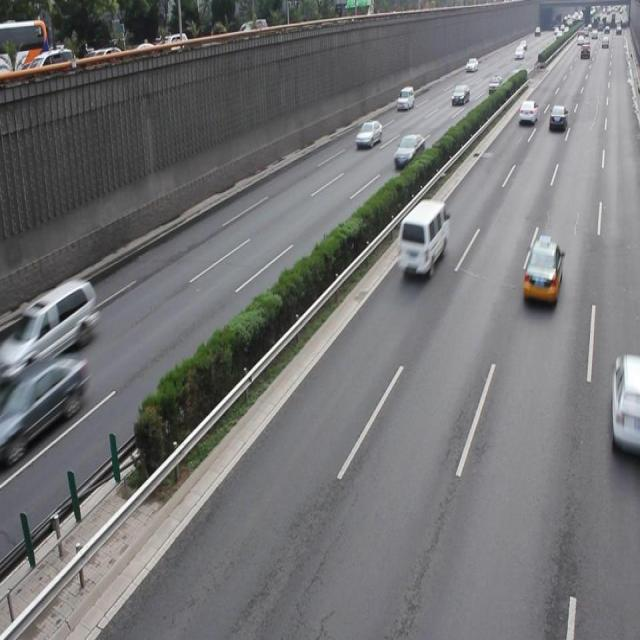car: (11, 351, 84, 448), (608, 356, 640, 458), (520, 237, 561, 308), (392, 132, 424, 167)
truck: (15, 277, 96, 369), (398, 200, 446, 278)
